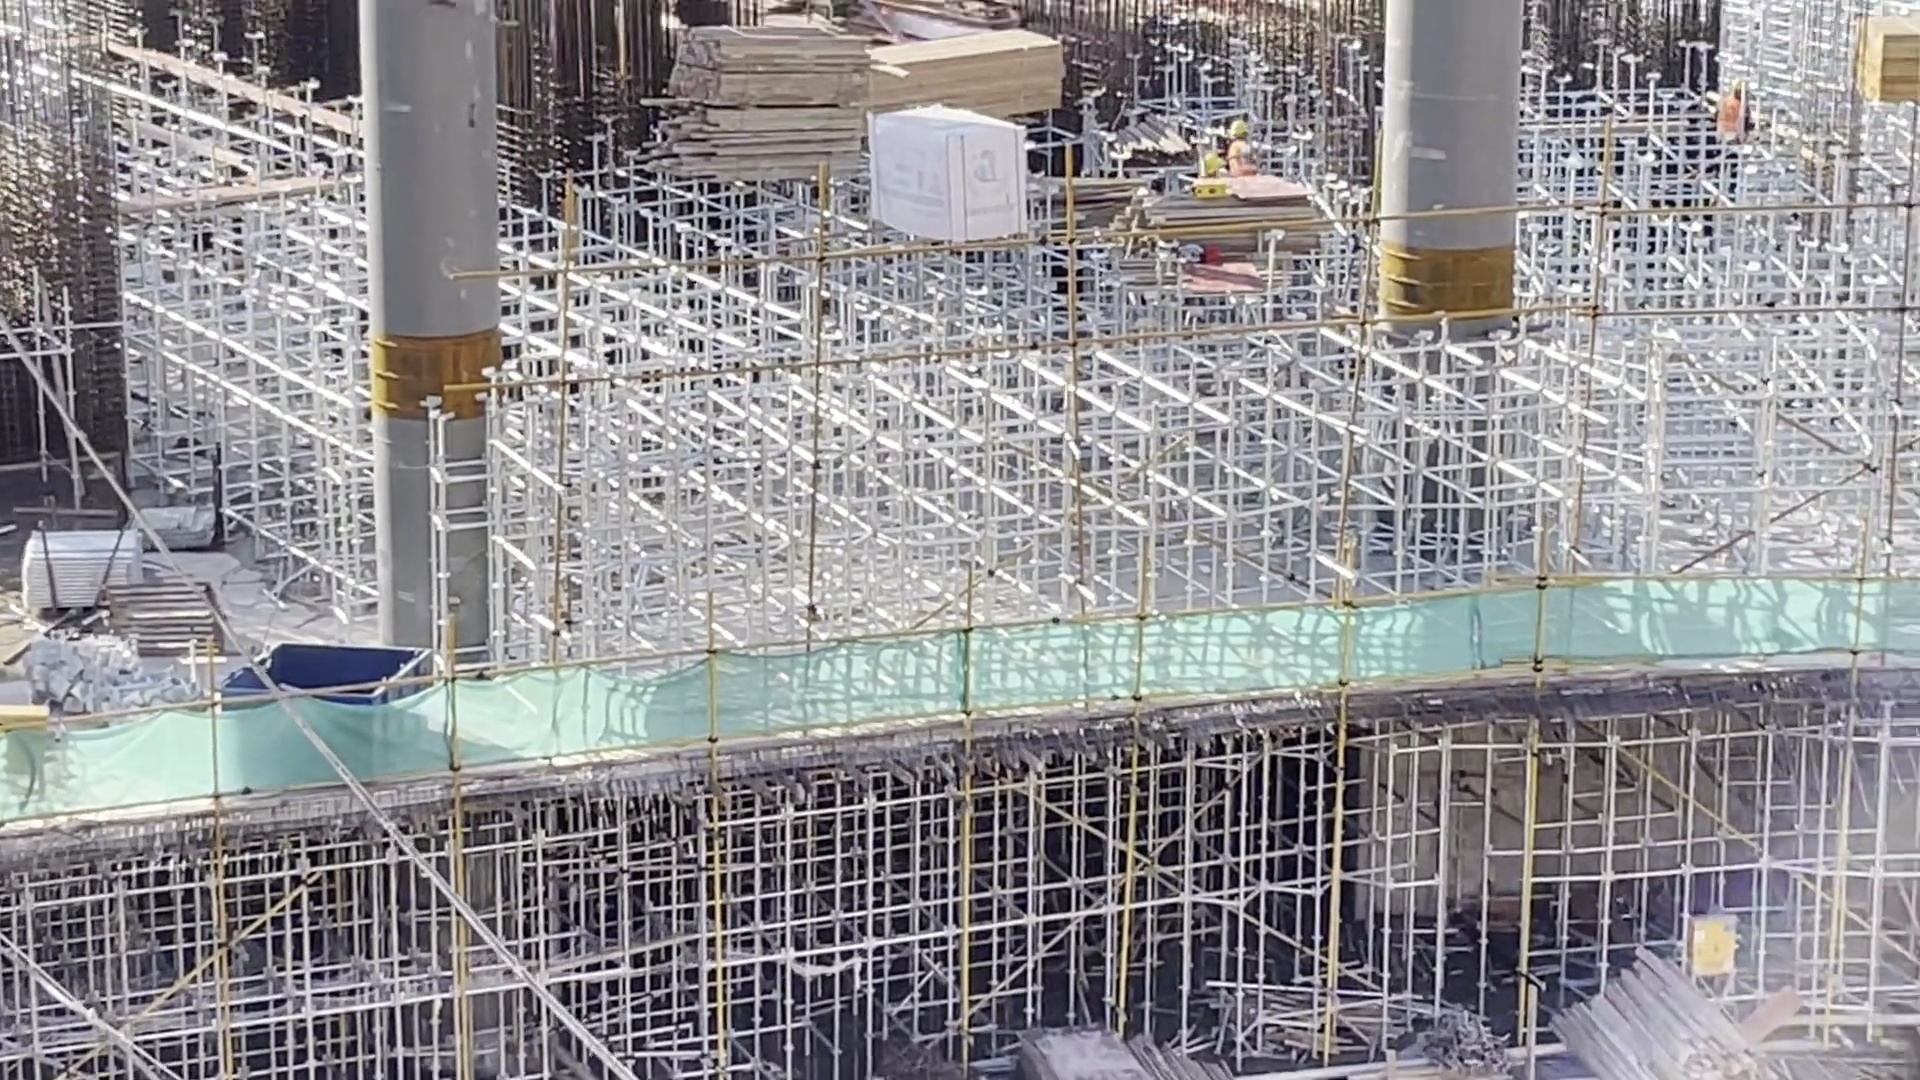board: (1149, 175, 1333, 253), (1014, 1017, 1150, 1080)
ebox: (1678, 905, 1748, 985), (3, 697, 52, 726)
helmet: (1228, 121, 1250, 137), (1733, 76, 1752, 91)
hopper: (258, 637, 434, 680)
person: (1224, 119, 1265, 172), (1712, 77, 1741, 141)
scaffold: (25, 523, 150, 590)
vest: (1715, 99, 1743, 142), (1227, 142, 1260, 172)
wood: (644, 20, 869, 187), (1544, 939, 1765, 1080), (867, 27, 1069, 108), (1867, 13, 1920, 112)
